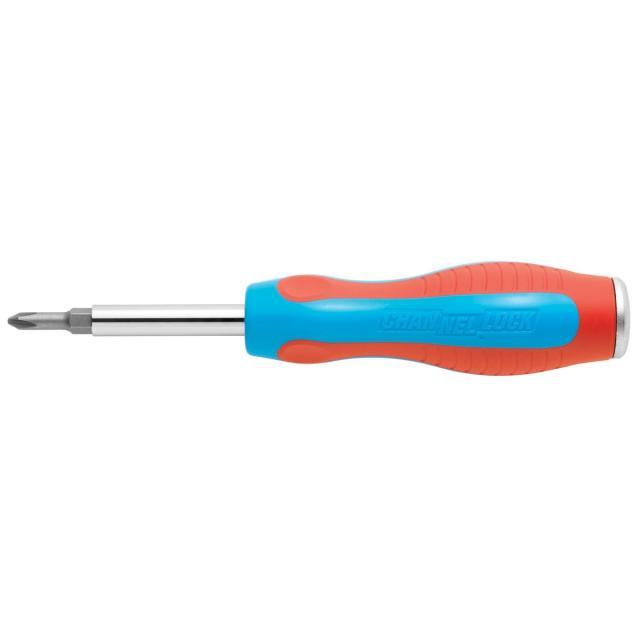screwdriver: (4, 255, 634, 384)
